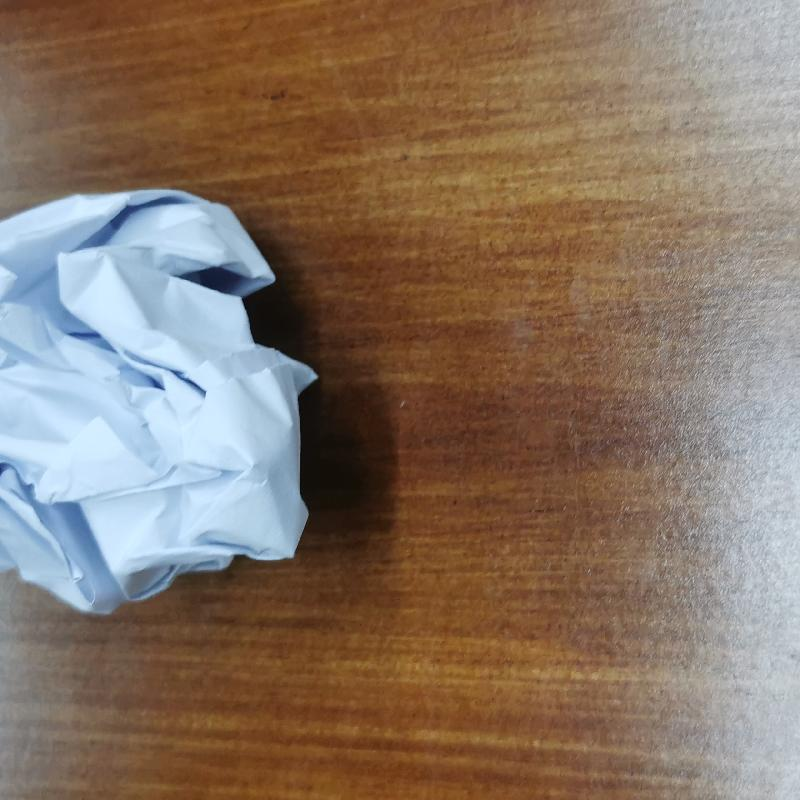spitball: (1, 180, 321, 621)
